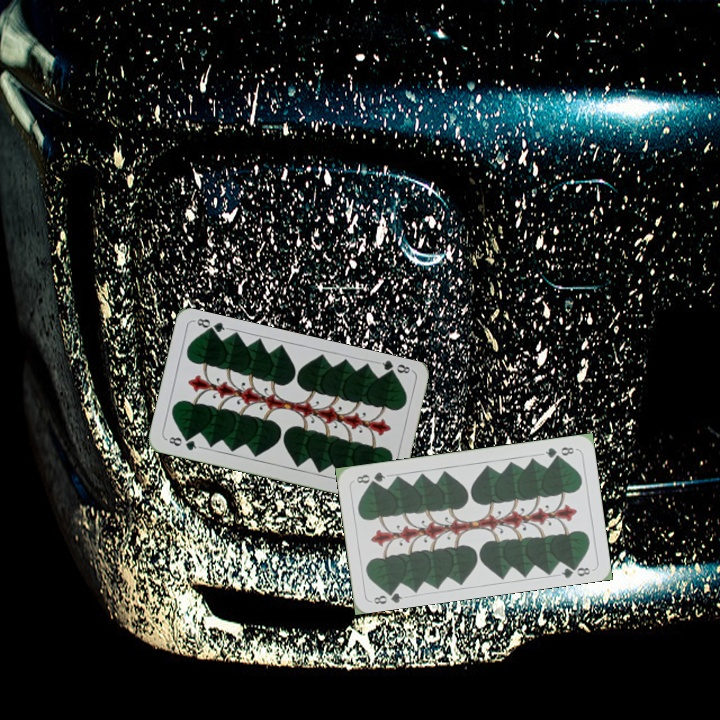G8: (374, 357, 414, 379), (163, 433, 203, 453), (370, 585, 405, 607), (541, 443, 577, 461)
